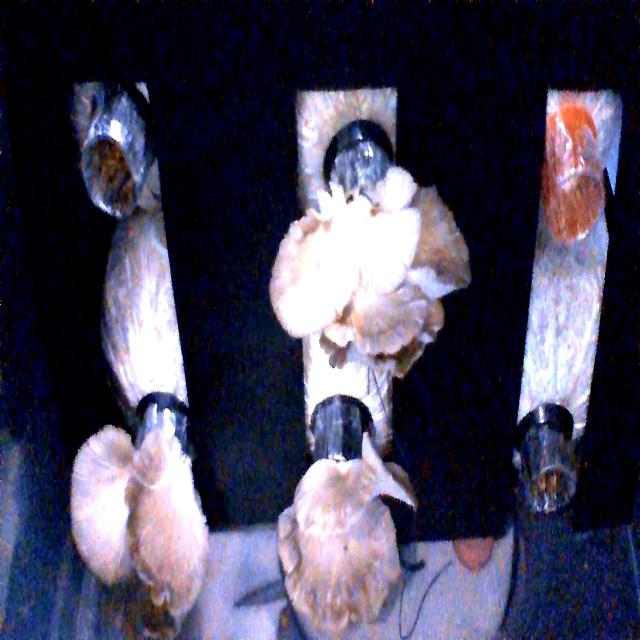big: (255, 122, 470, 389), (257, 426, 426, 636), (66, 417, 220, 633)
nfound: (72, 128, 164, 258), (496, 408, 581, 525), (541, 131, 608, 256)
